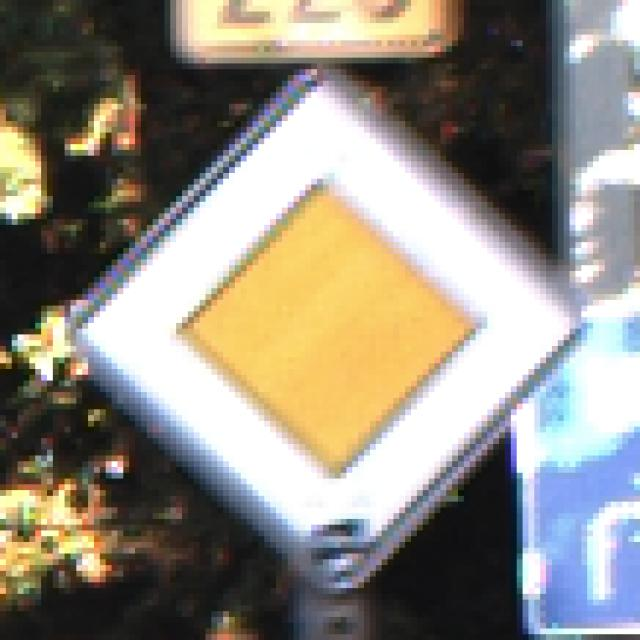Main Road: (54, 59, 588, 589)
